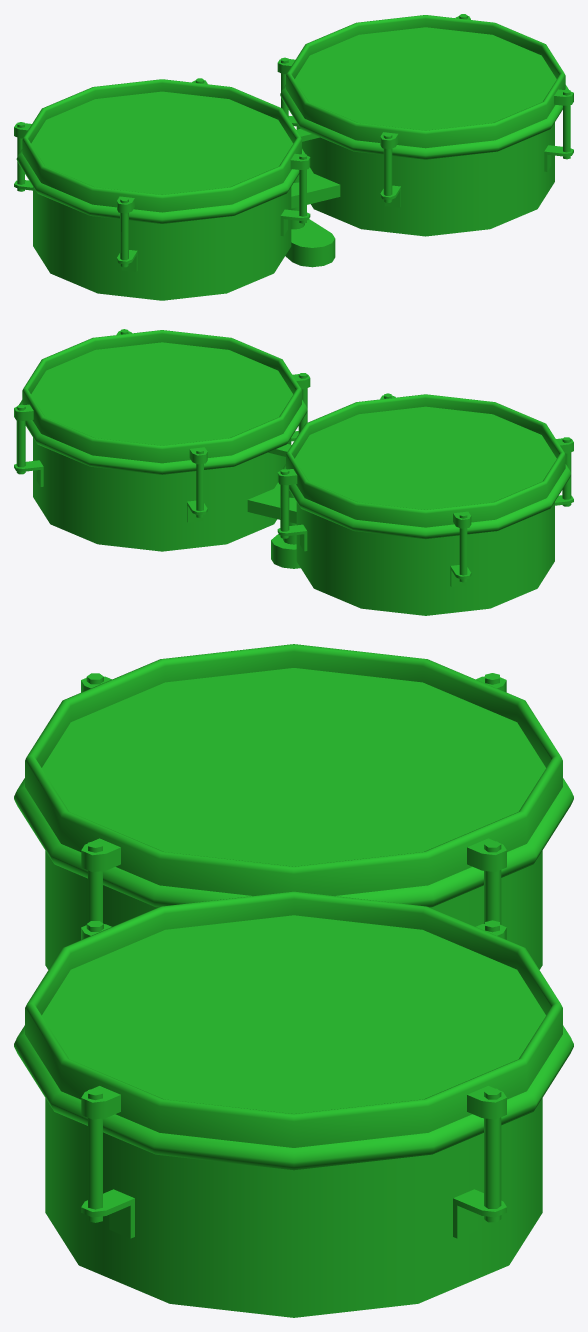
File: Timbal_0.fbx
The picture shows the model from 3 angles, top to bottom: view 1: azimuth 30°, elevation 25°; view 2: azimuth 150°, elevation 25°; view 3: azimuth 270°, elevation 25°; orthographic projection. The views are drawn at different scales.
Parts seen in each view (by area): view 1: Timbal_0; view 2: Timbal_0; view 3: Timbal_0.
Part boxes in pixels (box(x1,y1,x2,y2)): Timbal_0: box(14, 14, 573, 300); Timbal_0: box(14, 329, 573, 615); Timbal_0: box(14, 644, 573, 1317).
Size of the model in its own units: 77.15 by 19.9 by 37.72.
